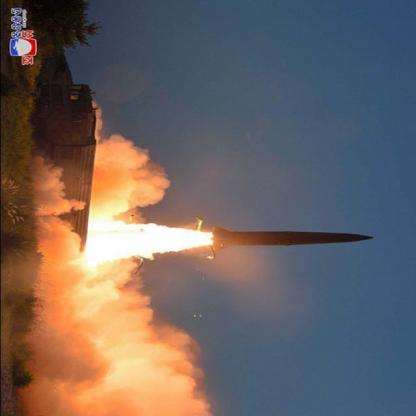MIL_TBM: (201, 225, 382, 253)
